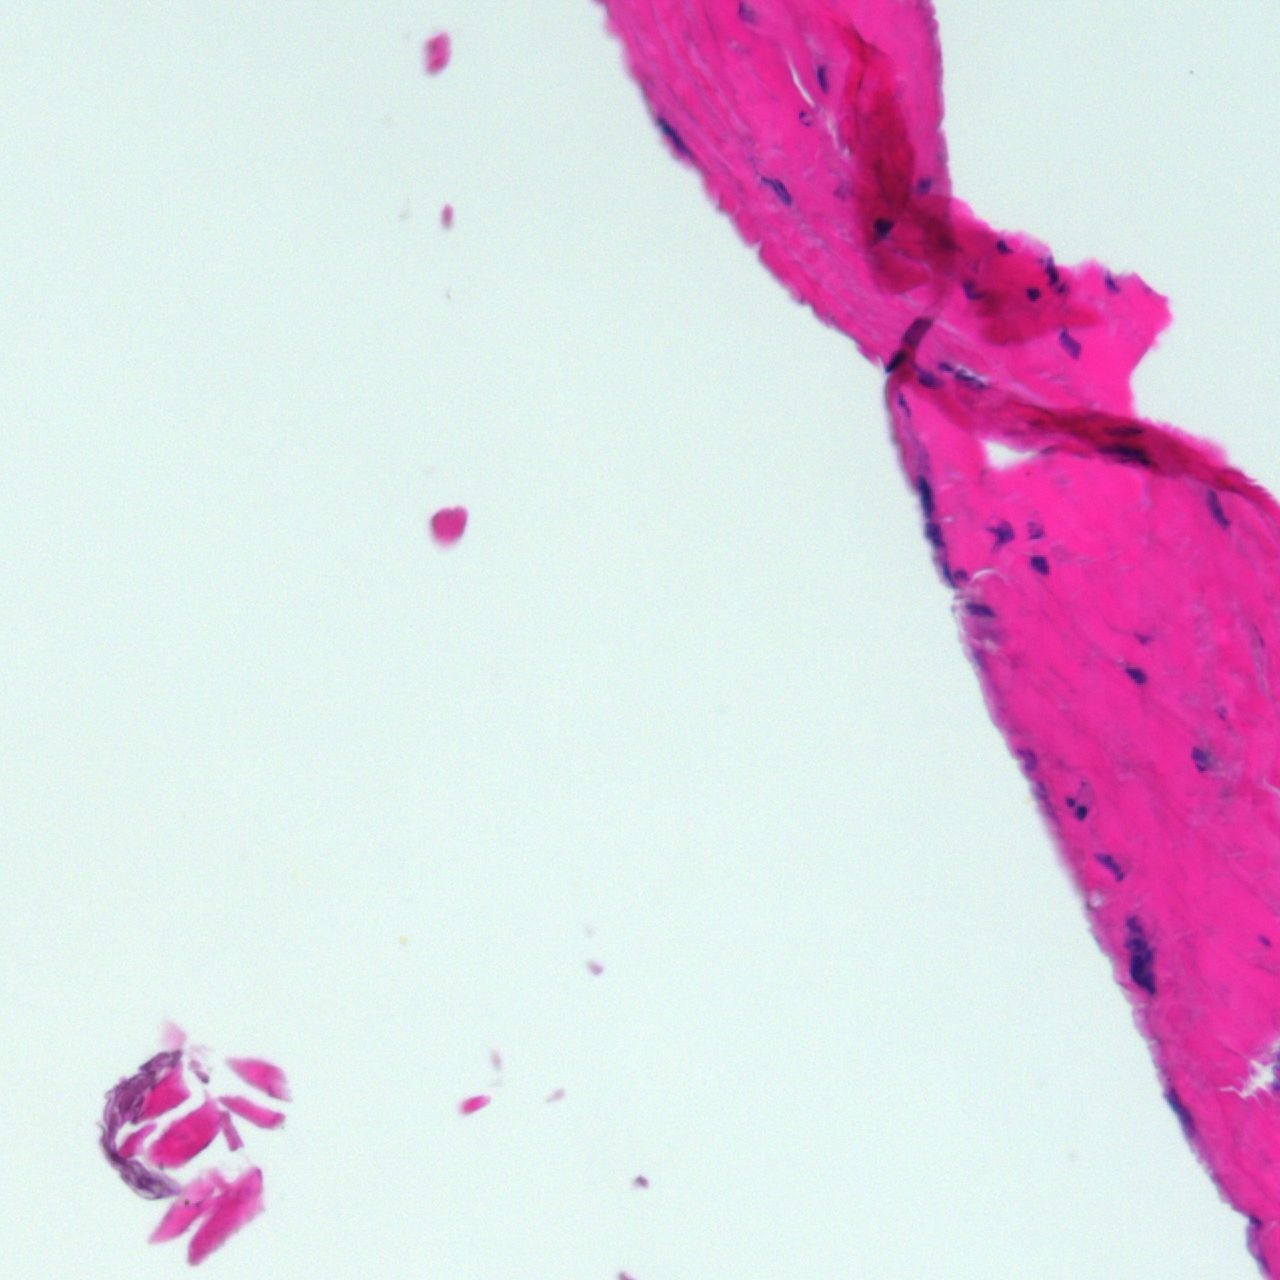nucleus-HE: (648, 110, 697, 163), (1096, 436, 1159, 472), (1163, 1084, 1197, 1136), (757, 166, 795, 207), (1092, 846, 1128, 886), (1201, 486, 1232, 529), (1130, 951, 1156, 993), (914, 474, 937, 519), (879, 345, 908, 377), (913, 366, 942, 392), (987, 520, 1014, 546), (1057, 328, 1080, 359), (937, 556, 956, 586), (924, 520, 945, 549), (1253, 1248, 1274, 1274), (1017, 745, 1037, 772), (894, 389, 912, 418), (1102, 423, 1145, 435), (964, 278, 986, 300), (1123, 663, 1146, 685), (1190, 747, 1208, 772), (966, 602, 995, 618), (873, 216, 894, 237), (1027, 554, 1049, 574), (1253, 930, 1273, 951), (1044, 256, 1058, 285), (816, 62, 828, 94), (1245, 1208, 1262, 1228), (935, 358, 955, 374), (1103, 270, 1118, 291), (914, 175, 930, 195), (1124, 937, 1145, 949), (1125, 913, 1141, 931), (995, 238, 1012, 253), (1074, 803, 1088, 821), (955, 368, 976, 380), (1024, 286, 1040, 301), (797, 110, 812, 125), (1027, 526, 1043, 539), (954, 566, 967, 579), (1065, 795, 1074, 806)
